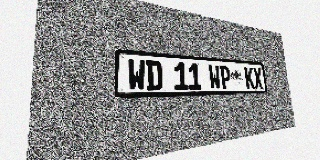1: (173, 62, 188, 90), (187, 63, 202, 90)
D: (146, 60, 163, 91)
K: (244, 67, 255, 89)
P: (219, 65, 232, 89)
W: (128, 59, 146, 91), (208, 64, 221, 89)
X: (253, 67, 263, 89)
